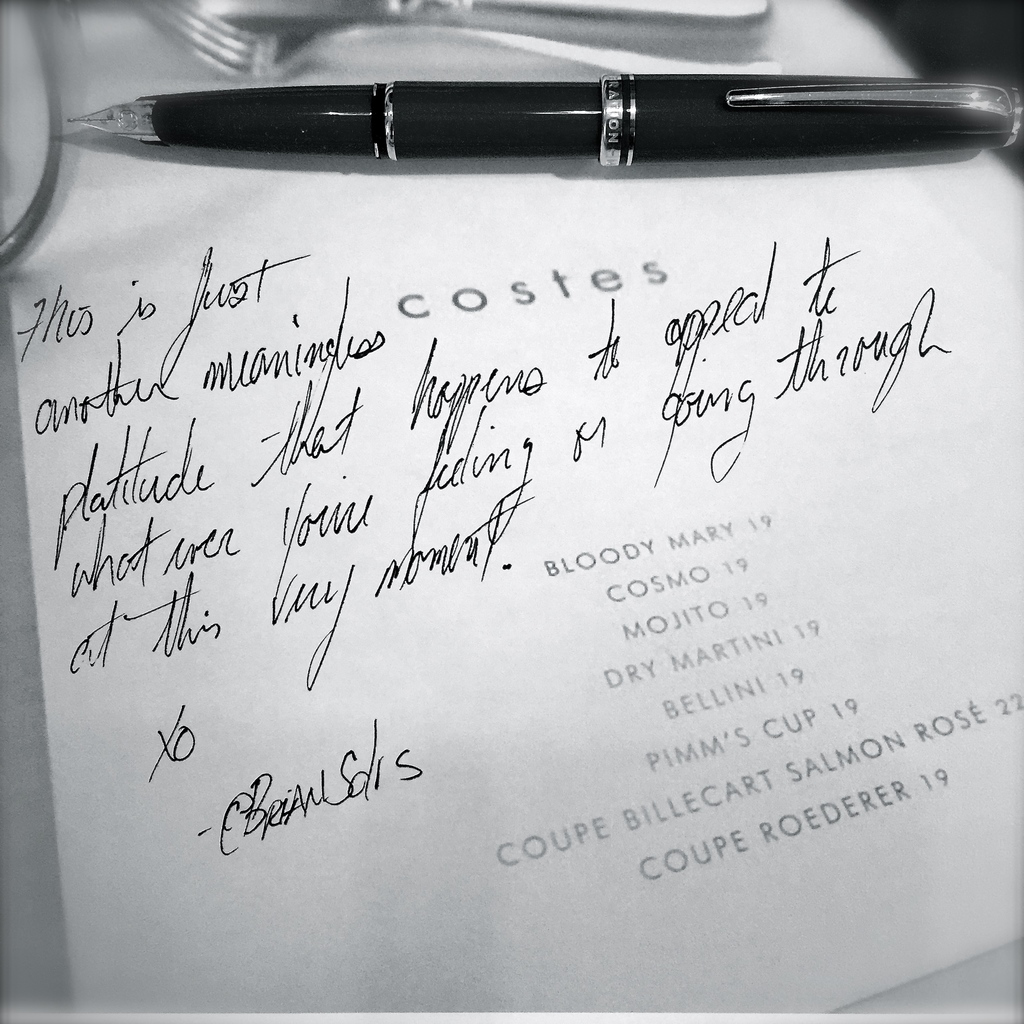Pen: (63, 63, 1023, 161)
